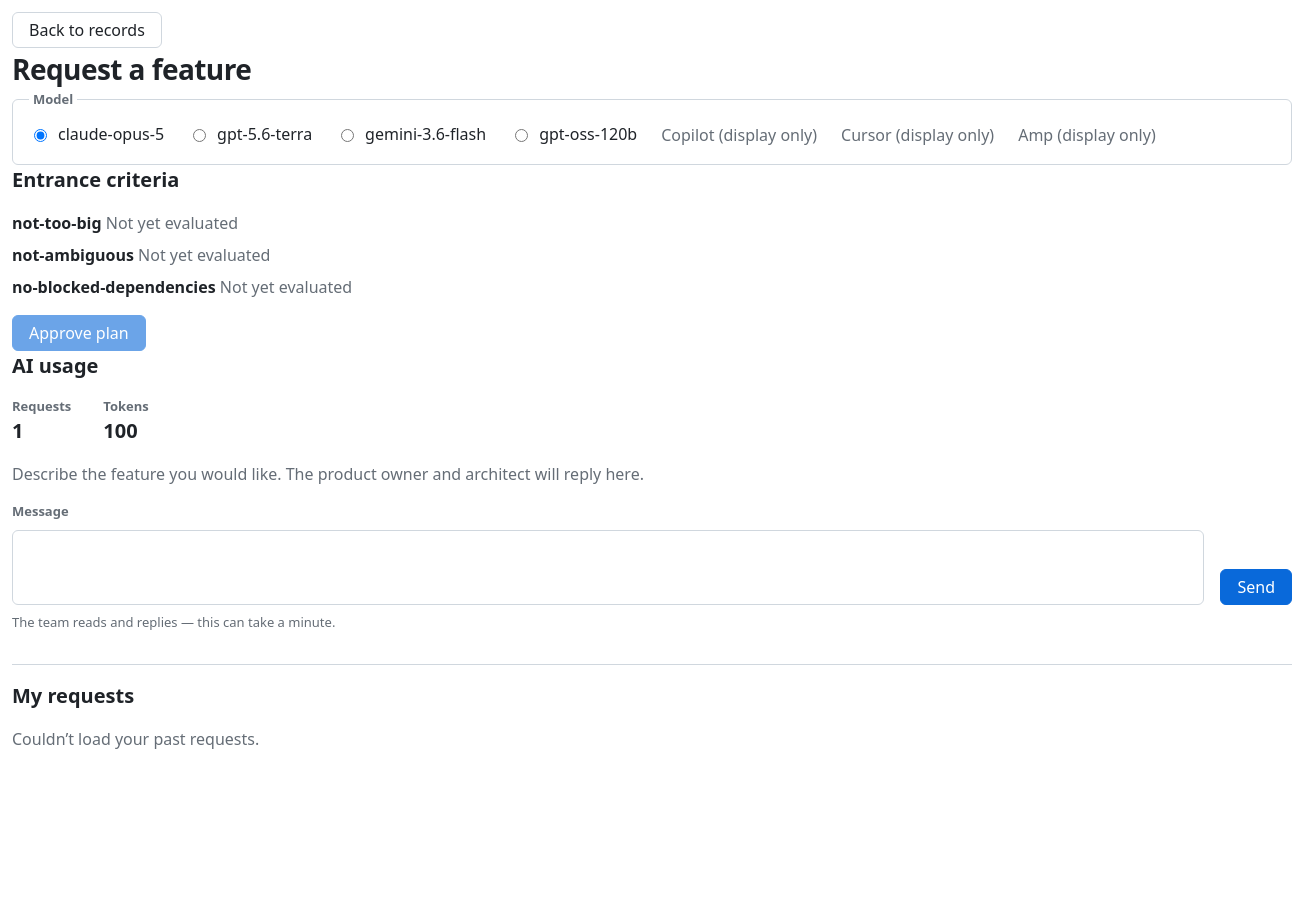
DAN-66 tester · criterion 2: tools stay display-only, picker still locks › locks all four radios once a session starts with a non-default model, which stays the checked one
The width and height of the screenshot is (1304, 912).
Check: the text "Requests" is shown, box [12, 396, 71, 416]
Click the radio button labelled "gpt-oss-120b". click: (522, 135)
box: [515, 128, 528, 142]
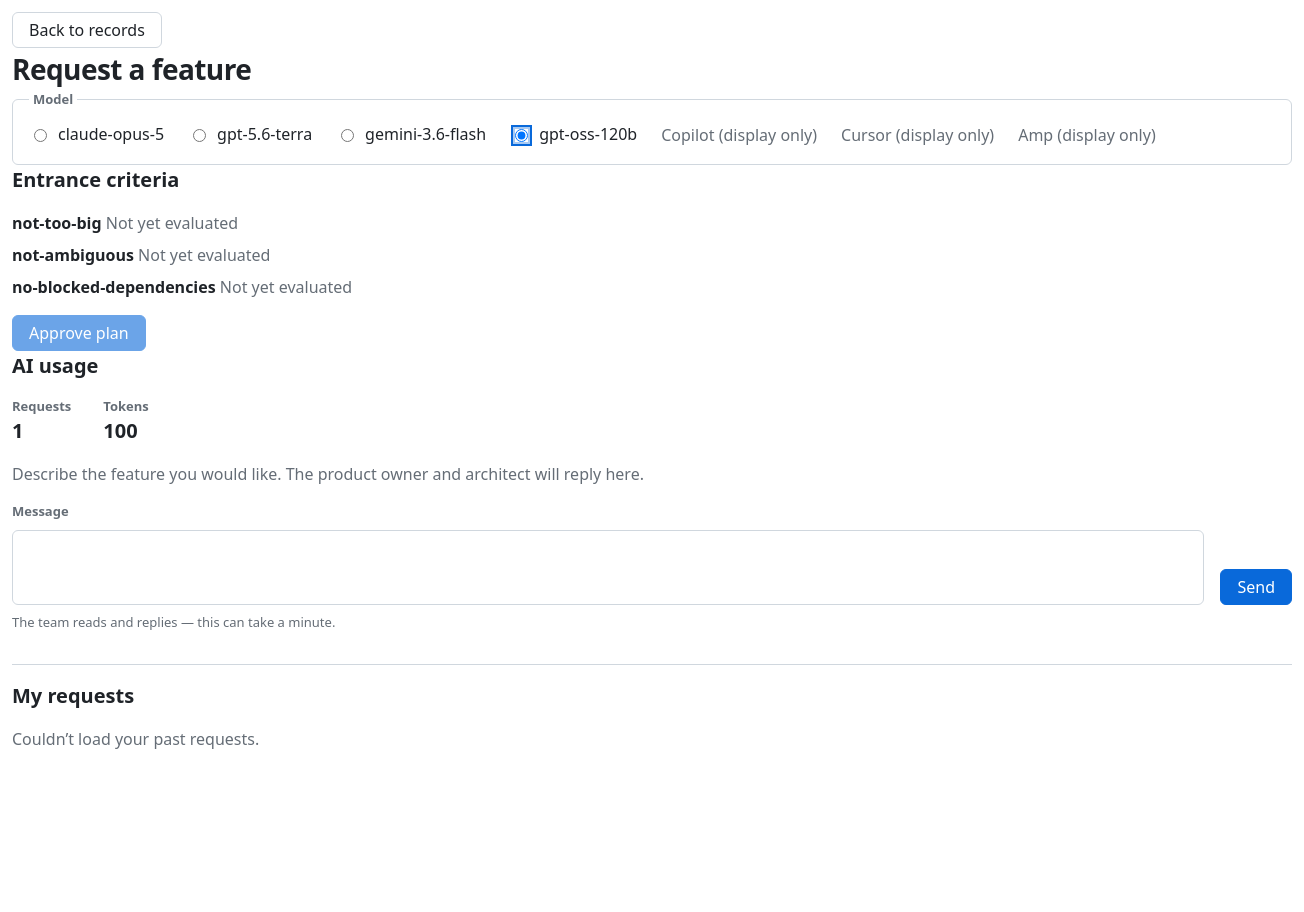
Type "Export the table as CSV" into the text box labelled "Message". click: (608, 567)
box: [12, 530, 1204, 604]
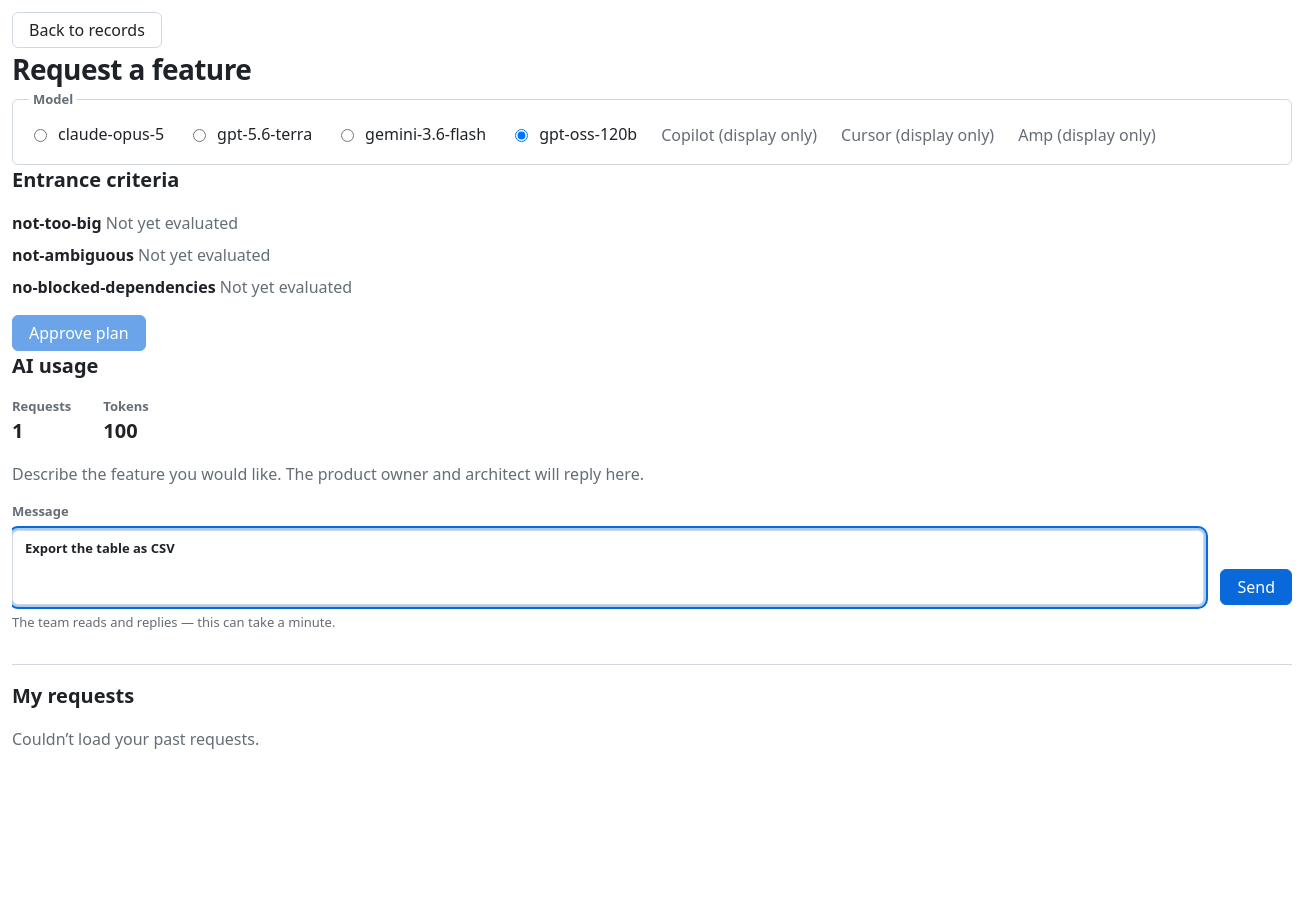
Click the button "Send". click: (1256, 586)
box: [1220, 568, 1292, 604]
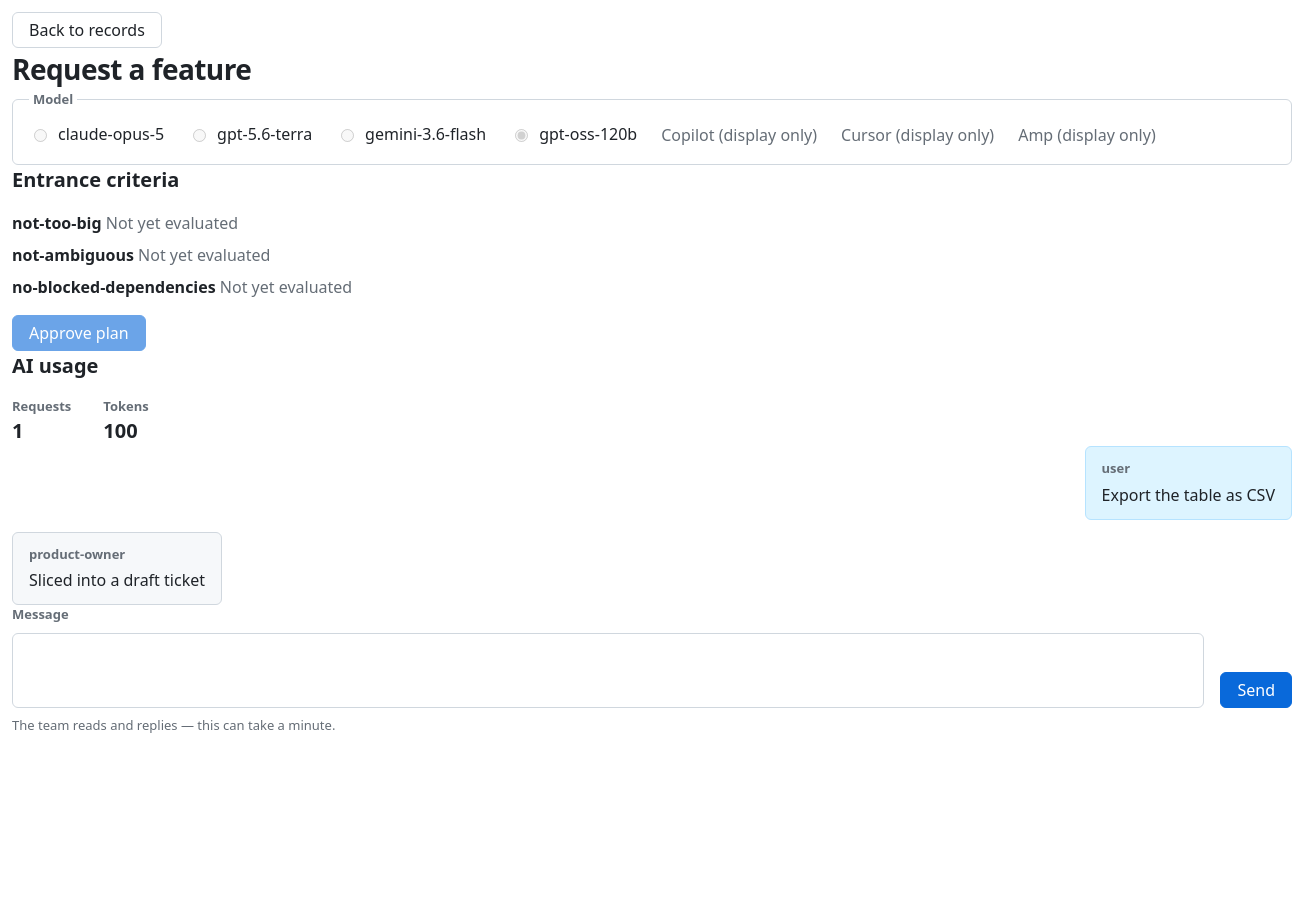
Check: the radio button labelled "gpt-oss-120b" is checked, box [515, 128, 528, 142]
Check: the radio button labelled "claude-opus-5" is not checked, box [34, 128, 47, 142]
Check: the list named "Conversation" is shown, box [12, 446, 1292, 605]
